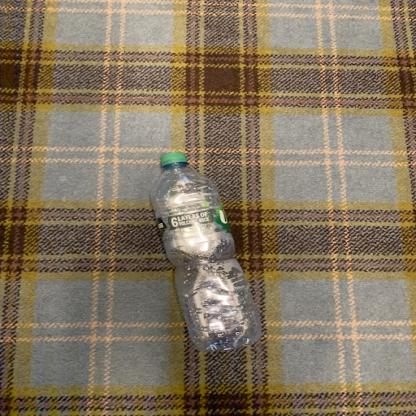trash: (151, 150, 264, 356)
